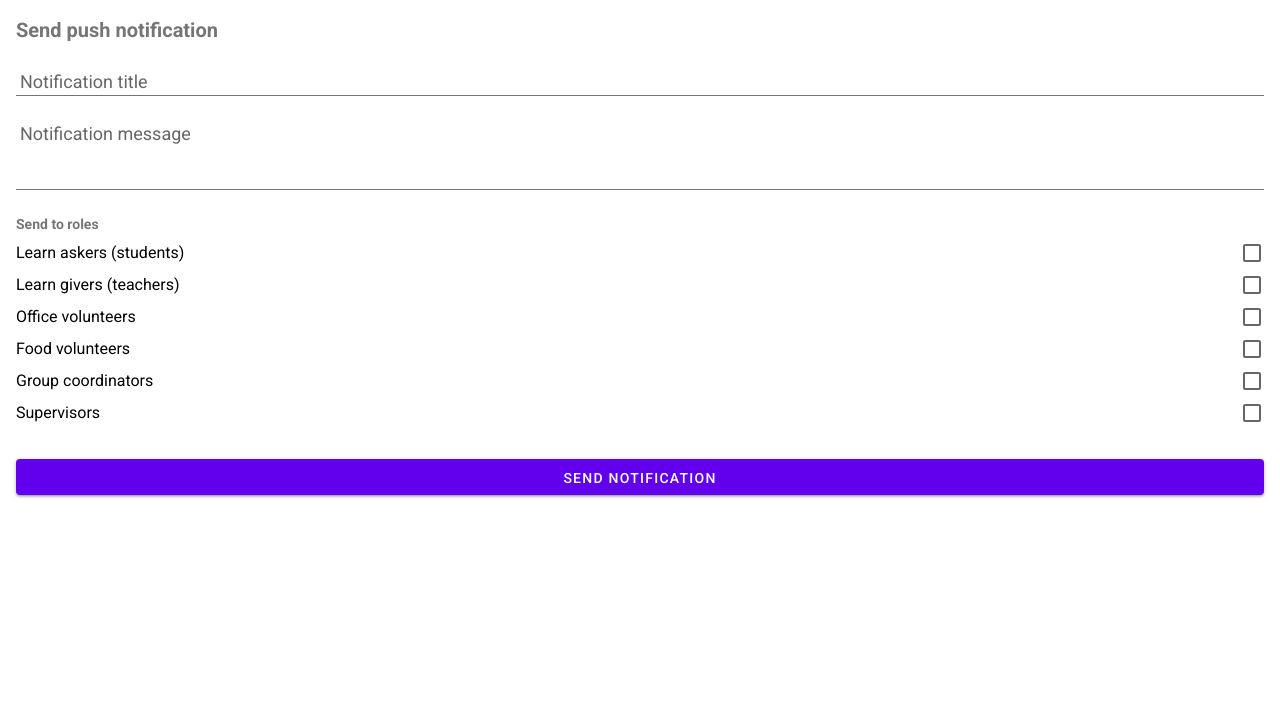
Test: SendNotificationScreen › sends to the chosen roles and reports the result
Expected: the number of checkboxes is 6, [1243, 244, 1261, 262]; [1243, 276, 1261, 294]; [1243, 308, 1261, 326]; [1243, 340, 1261, 358]; [1243, 372, 1261, 390]; [1243, 404, 1261, 422]
Type "כותרת" into the field labelled "Notification title" at (640, 78), box [16, 59, 1264, 96]
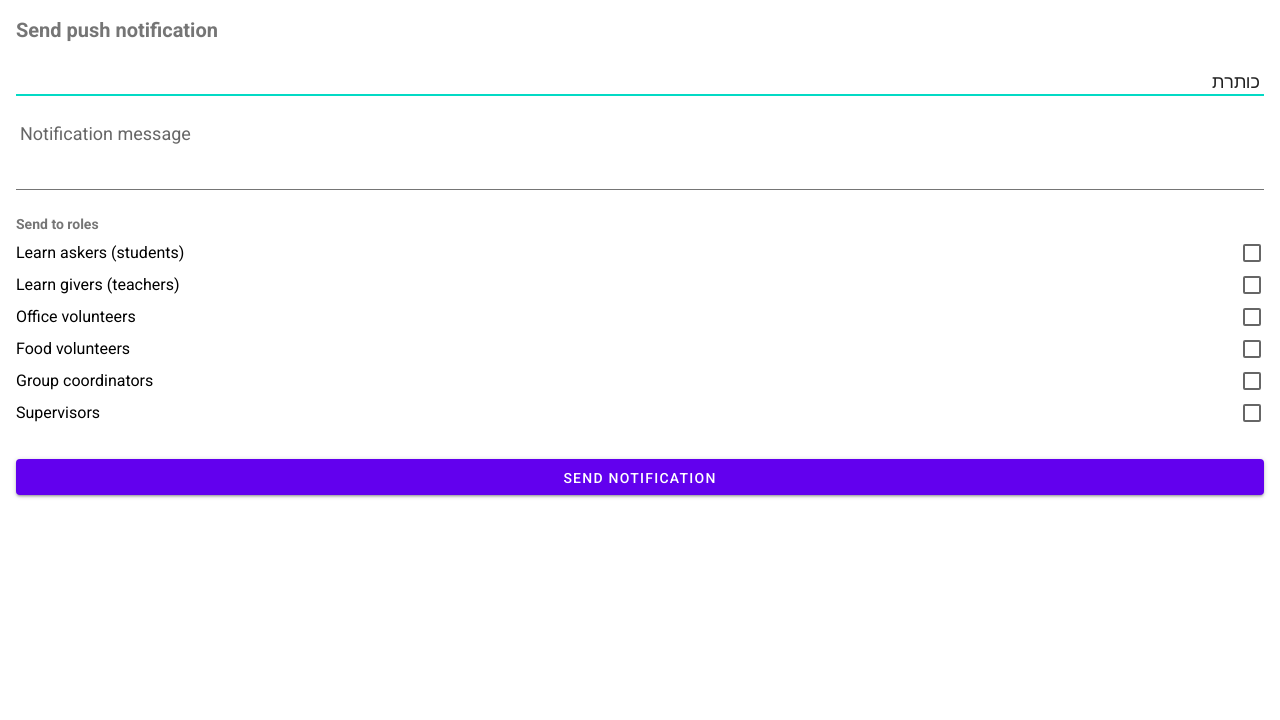
Type "תוכן" into the text box labelled "Notification message" at (640, 151), box [16, 112, 1264, 190]
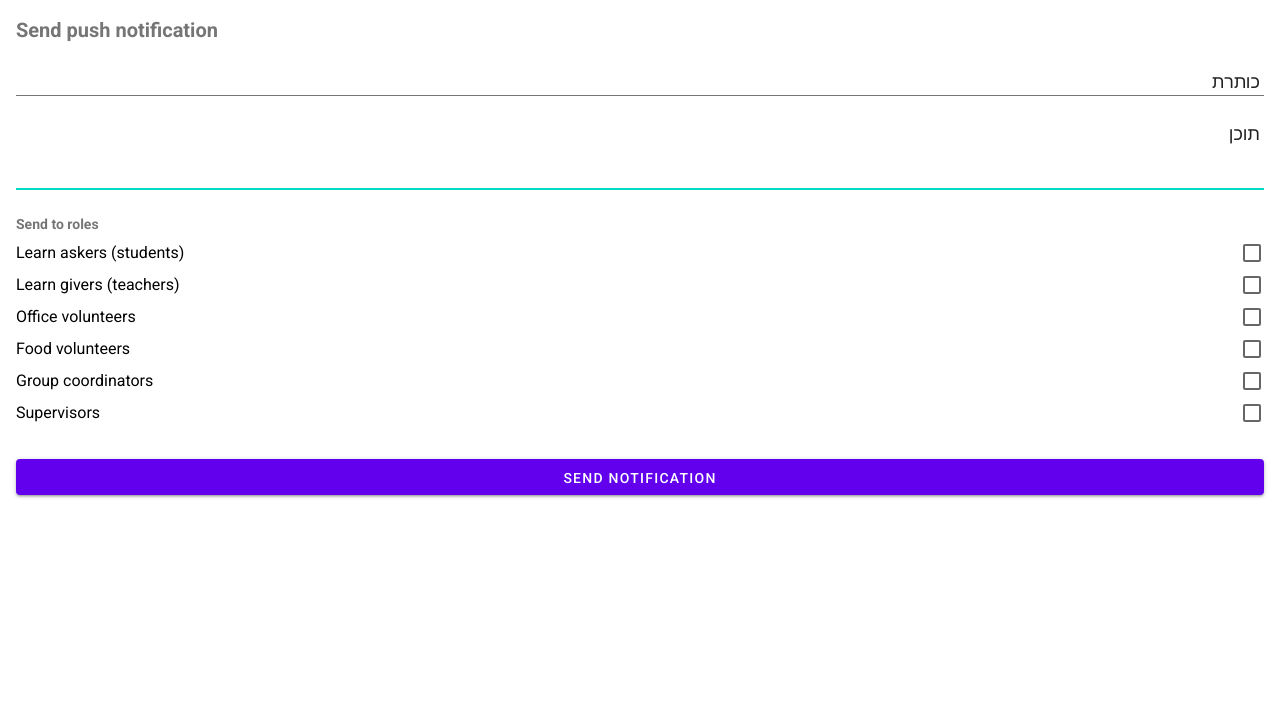
Click the checkbox labelled "Food volunteers" at (1252, 349), box [1243, 340, 1261, 358]
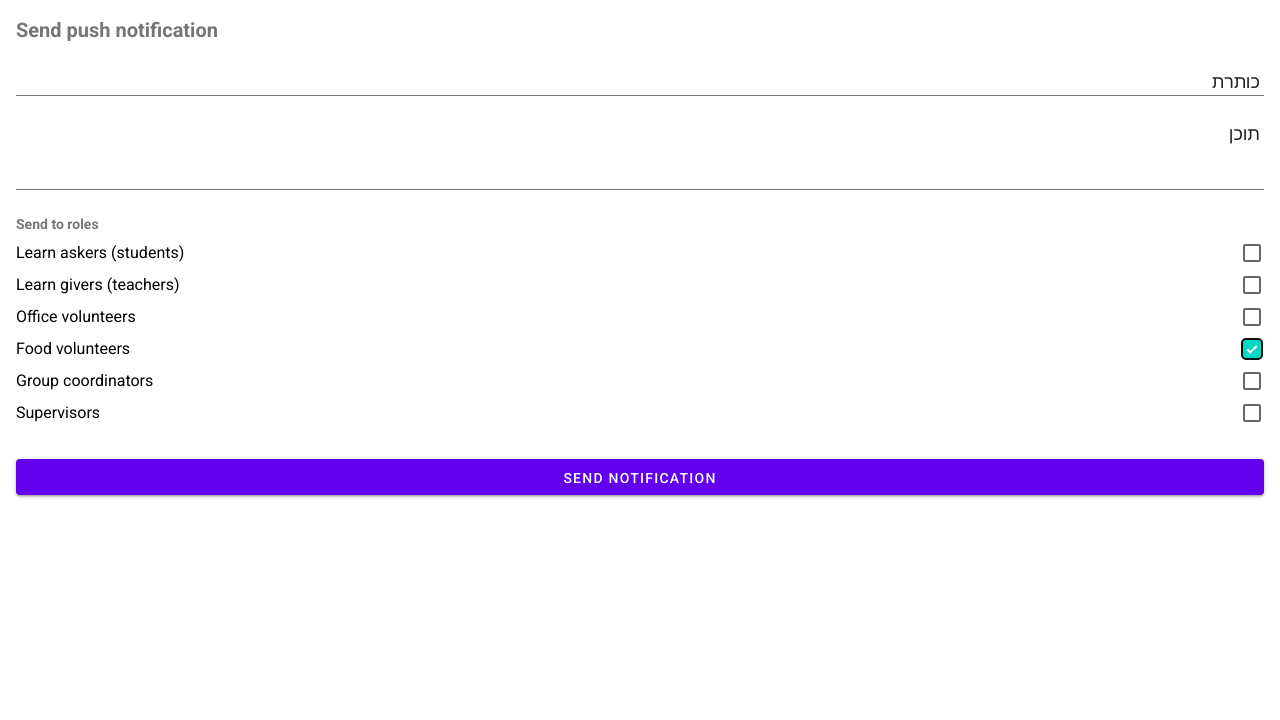
Click the checkbox labelled "Supervisors" at (1252, 413), box [1243, 404, 1261, 422]
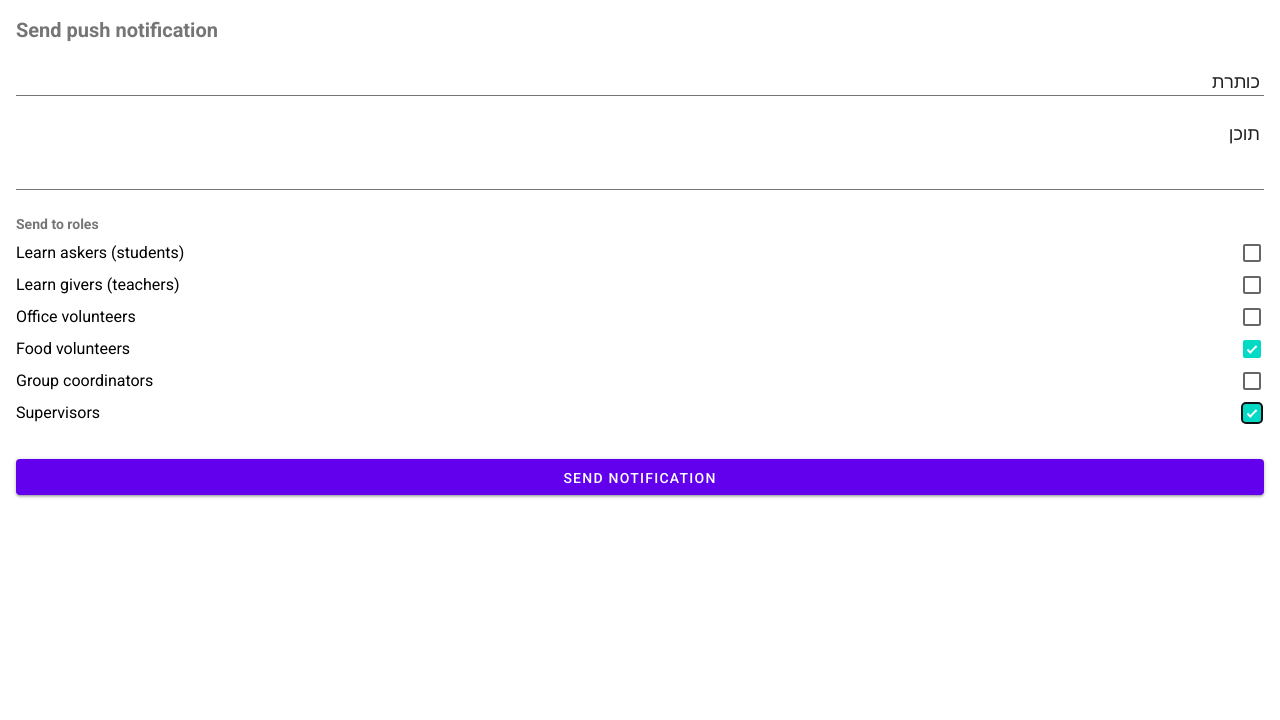
Click the button "Send notification" at (640, 477), box [16, 459, 1264, 495]
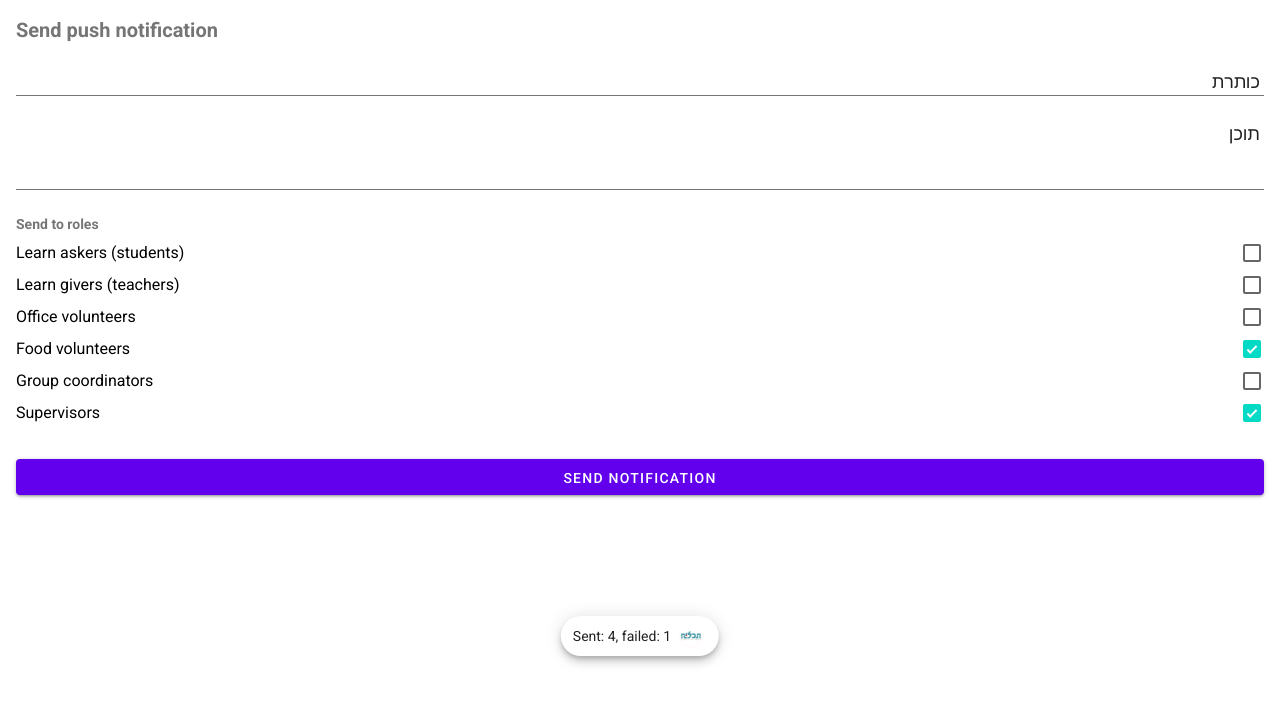
Result: the text "Sent: 4, failed: 1" is shown at [573, 627, 671, 646]
